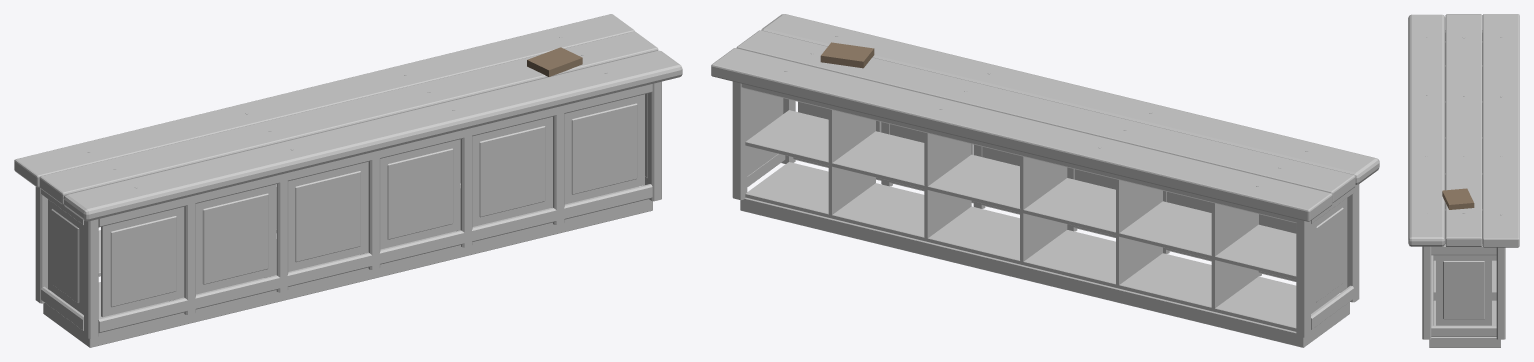
File: furn_shop_counter.glb
The picture shows the model from 3 angles, left to right: view 1: azimuth 30°, elevation 25°; view 2: azimuth 150°, elevation 25°; view 3: azimuth 270°, elevation 25°; orthographic projection. The views are drawn at different scales.
Visible parts, largest first — view 1: furn_shop_counter; view 2: furn_shop_counter; view 3: furn_shop_counter.
Boxes of the visible parts, <box> form: furn_shop_counter: <box>14,14,682,347</box>; furn_shop_counter: <box>711,14,1379,347</box>; furn_shop_counter: <box>1408,14,1519,347</box>.
Size of the model in its own units: 4.59 by 1.15 by 0.957.
